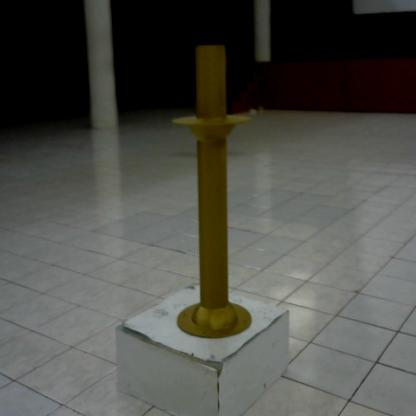pole: (164, 36, 257, 349)
